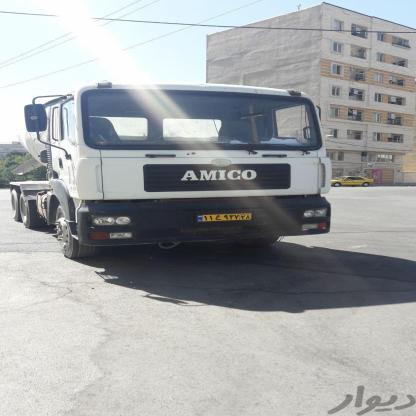Truck: (0, 83, 334, 258)
